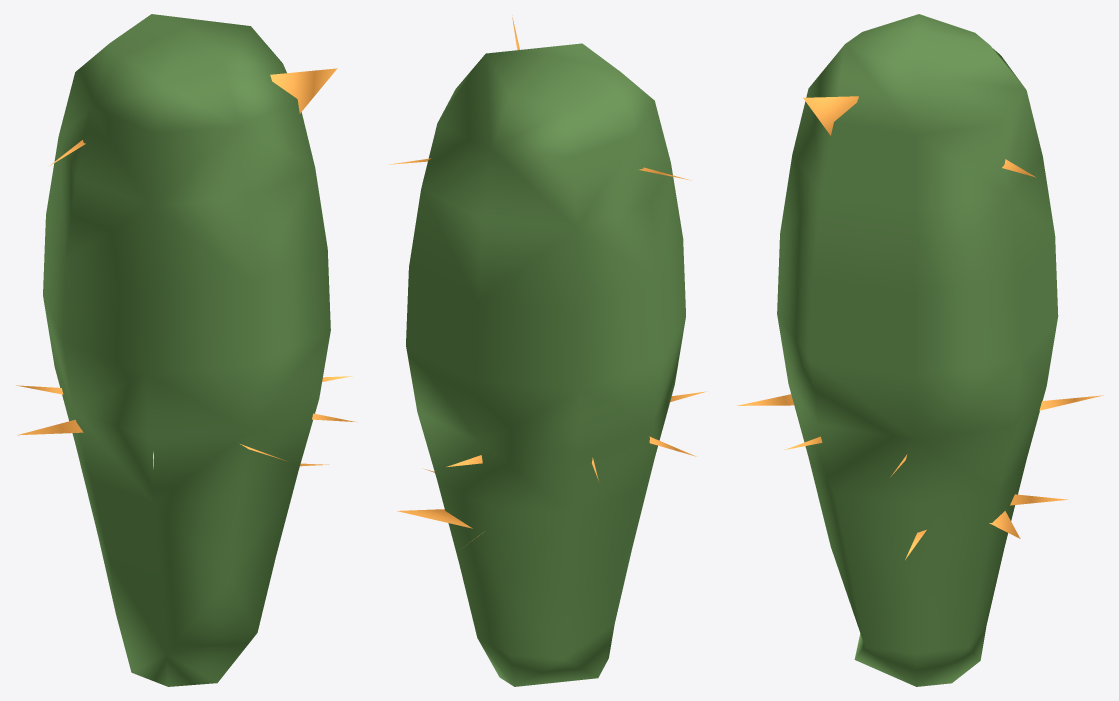
The model's file is Cactus_1_lod.glb.
3 renders of one model, left to right at view 1: azimuth 30°, elevation 25°; view 2: azimuth 150°, elevation 25°; view 3: azimuth 270°, elevation 25°, orthographic. The views are drawn at different scales.
Visible parts, largest first — view 1: Cactus_1; view 2: Cactus_1; view 3: Cactus_1.
Part boxes in pixels (box(x1,y1,x2,y2)): Cactus_1: box(16, 14, 356, 686); Cactus_1: box(387, 15, 707, 686); Cactus_1: box(737, 14, 1103, 686).
Size of the model in its own units: 51.53 by 99.77 by 52.22.
